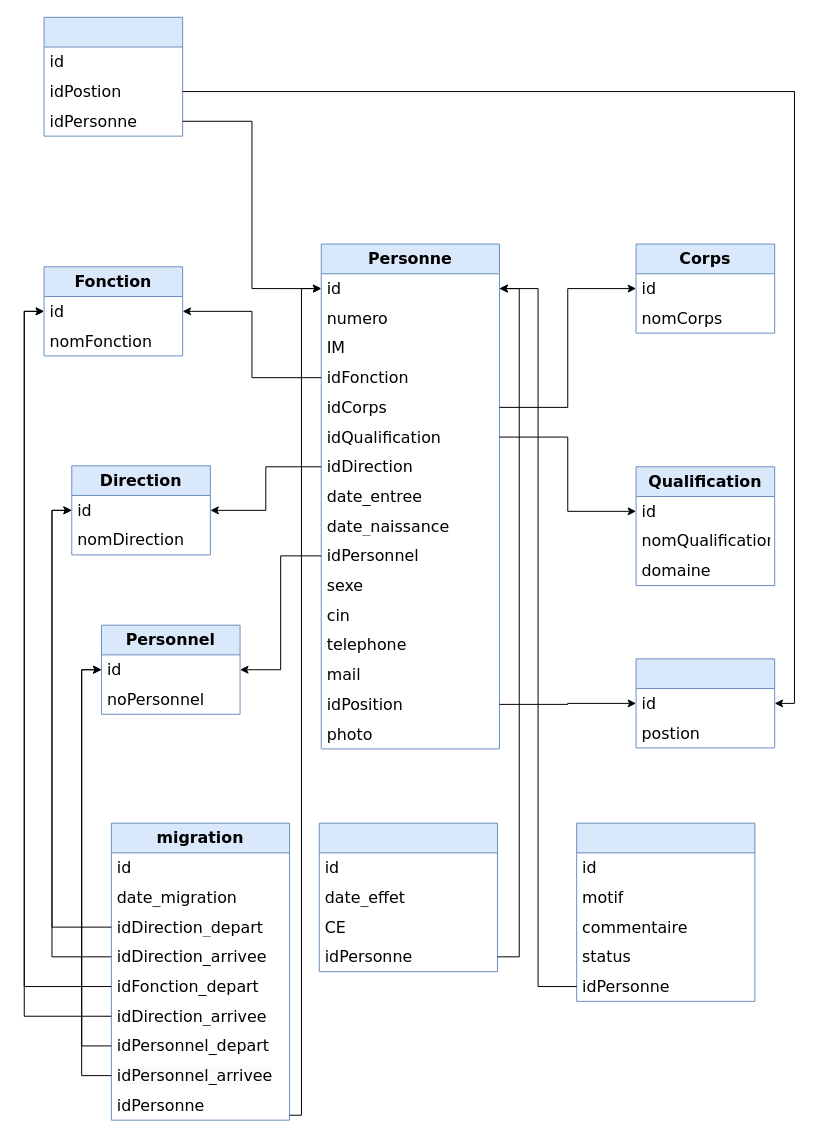
Image size: 820x1140. Some labels were removed from this diagram. Each missing label, with the box of its shape:
Detachement: (576, 822, 755, 1001)
Integration: (318, 822, 497, 972)
Postion (catégorie): (635, 658, 775, 748)
Reclassement: (43, 16, 183, 136)
